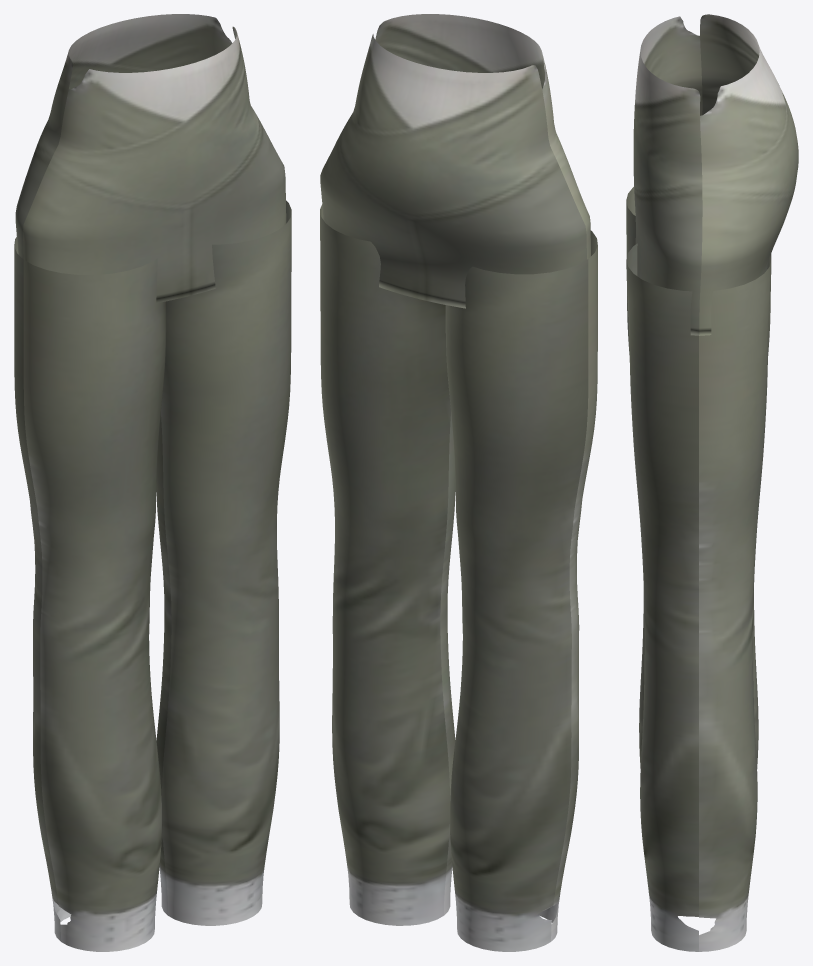
The model's file is prod-ae-sage-flare-leggings.glb.
3 renders of one model, left to right at view 1: azimuth 30°, elevation 25°; view 2: azimuth 150°, elevation 25°; view 3: azimuth 270°, elevation 25°, orthographic. The views are drawn at different scales.
Parts seen in each view (by area): view 1: prod-ae-sage-flare-leggings; view 2: prod-ae-sage-flare-leggings; view 3: prod-ae-sage-flare-leggings.
Part boxes in pixels (x1,y1,x2,y2): prod-ae-sage-flare-leggings: [14, 14, 291, 951]; prod-ae-sage-flare-leggings: [320, 14, 597, 951]; prod-ae-sage-flare-leggings: [626, 14, 798, 951].
Bounding box in the file's own units: 0.282 × 0.9104 × 0.1672.
Materials: 1 (1 with a texture image).
